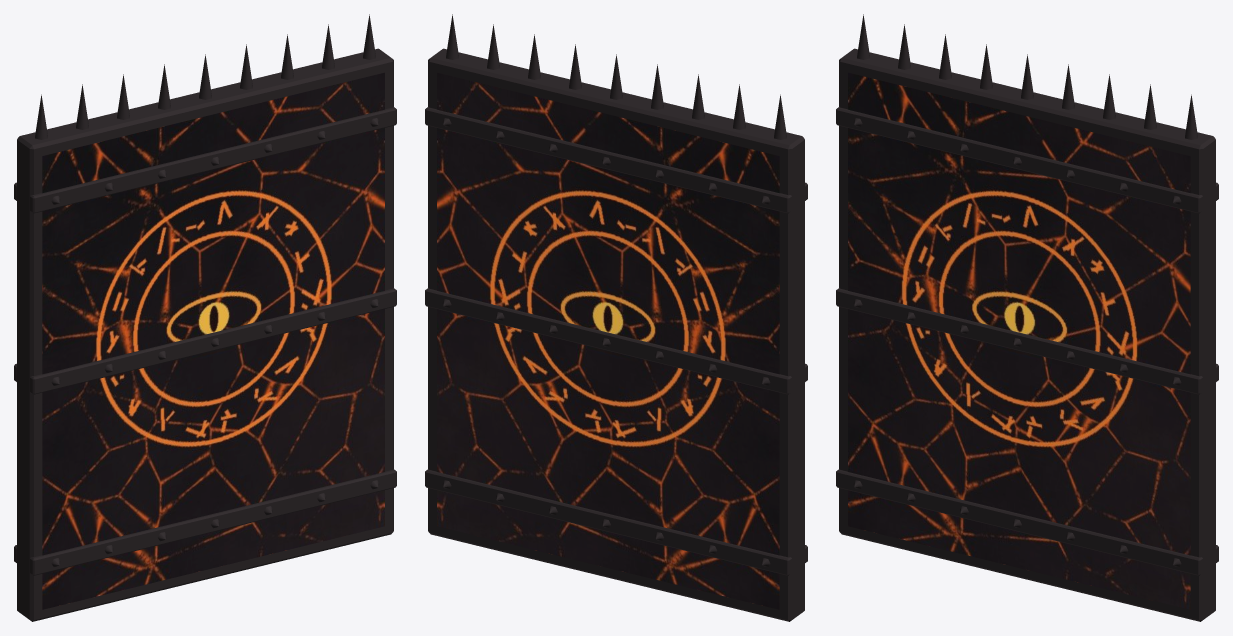
Rendered from tb_hellgate.glb.
The picture shows the model from 3 angles, left to right: view 1: azimuth 30°, elevation 25°; view 2: azimuth 150°, elevation 25°; view 3: azimuth 330°, elevation 25°; orthographic projection.
Visible parts, largest first — view 1: tb_hellgate; view 2: tb_hellgate; view 3: tb_hellgate.
Boxes of the visible parts, x1,y1,x2,y2 form: tb_hellgate: [14, 14, 396, 621]; tb_hellgate: [425, 14, 807, 621]; tb_hellgate: [836, 14, 1218, 621].
Bounding box in the file's own units: 4 × 5.45 × 0.52.
2 materials, 1 textured.
